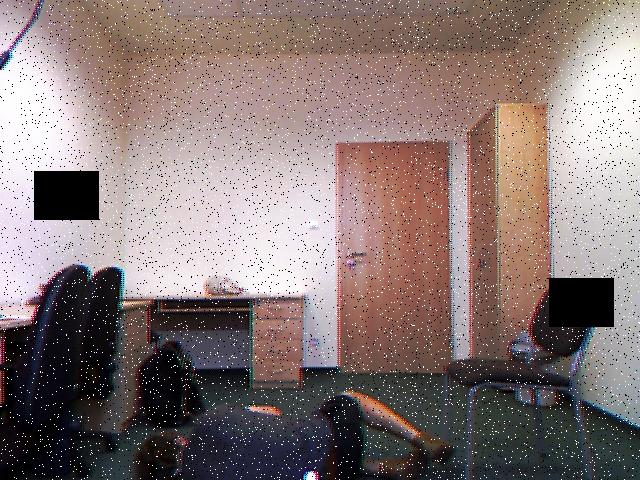fall: (132, 382, 459, 480)
